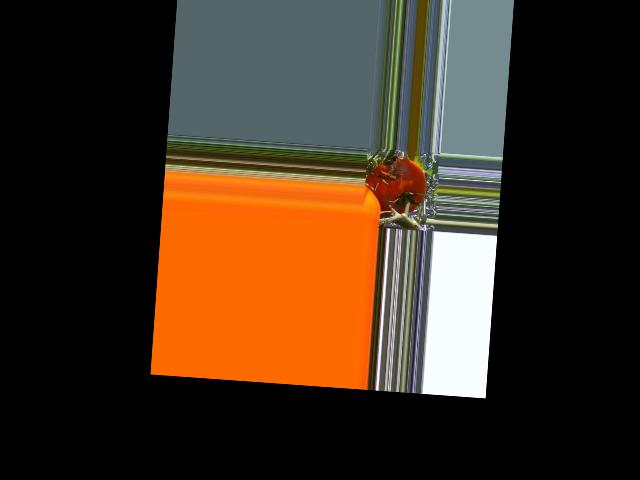tomato: (364, 154, 428, 215)
